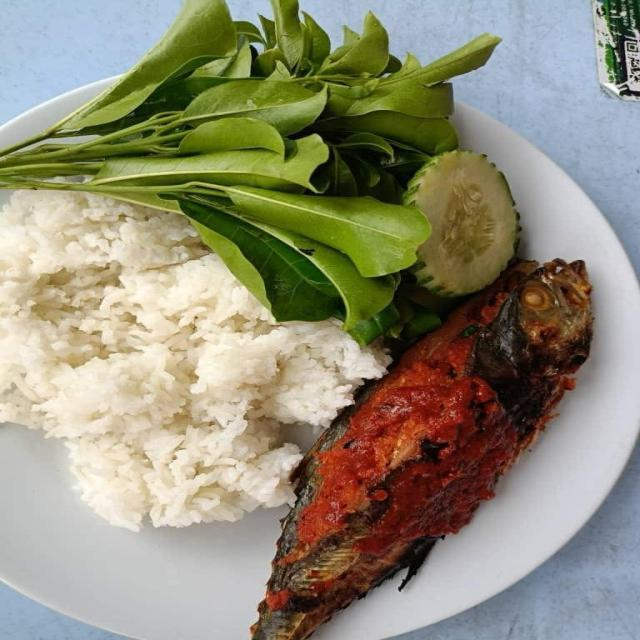Plate: (313, 103, 639, 639)
Vegetables: (0, 0, 524, 354), (252, 261, 597, 639)
